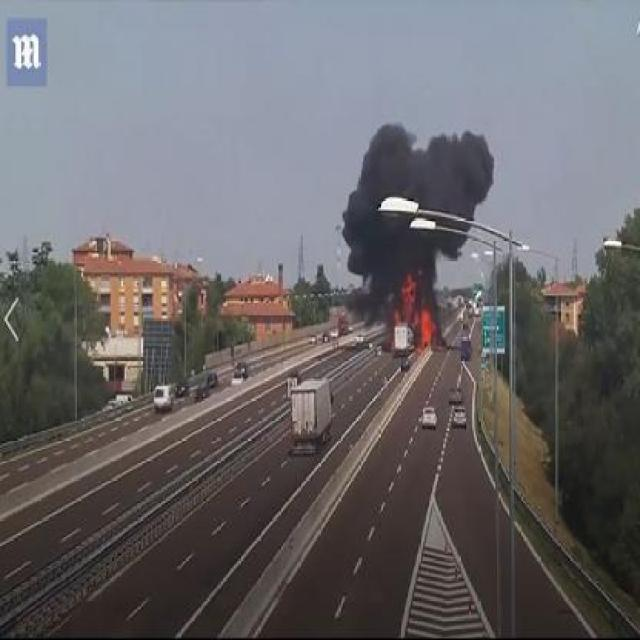Fire: (391, 274, 438, 349)
